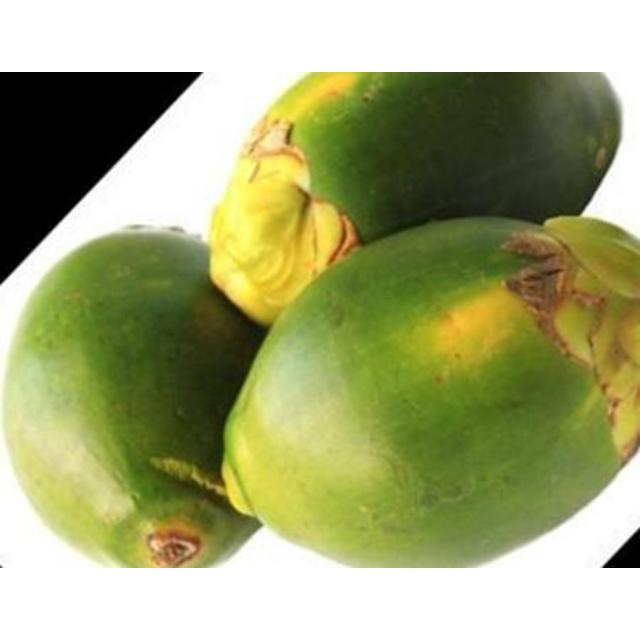good: (219, 217, 639, 567), (212, 72, 623, 317), (0, 226, 267, 567), (398, 130, 422, 142)
